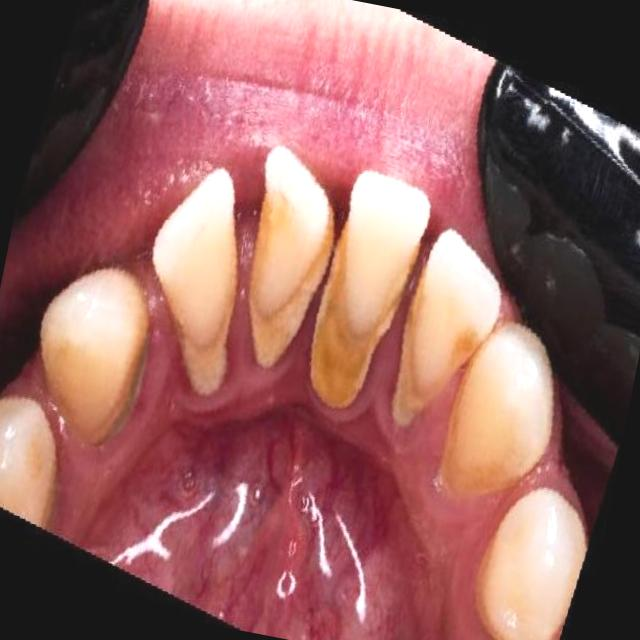calculus: (296, 152, 436, 436), (226, 121, 351, 396), (148, 149, 266, 431), (375, 207, 504, 457), (28, 262, 172, 463), (436, 322, 560, 530)
